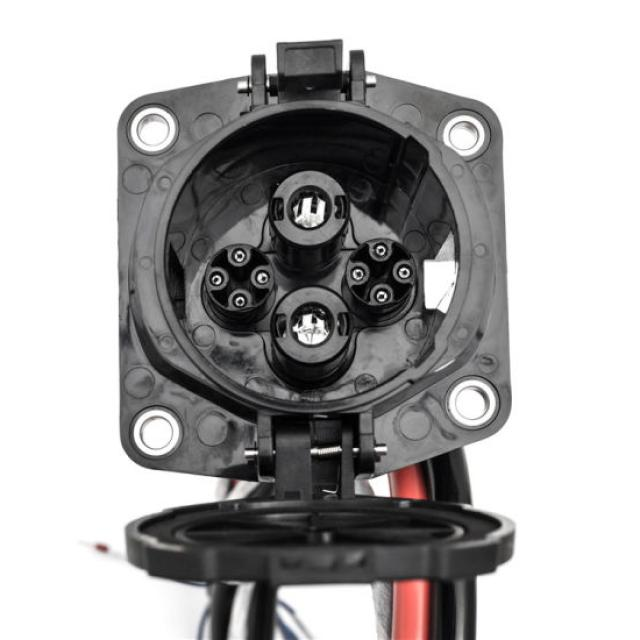CHAdeMO: (119, 144, 462, 430)
